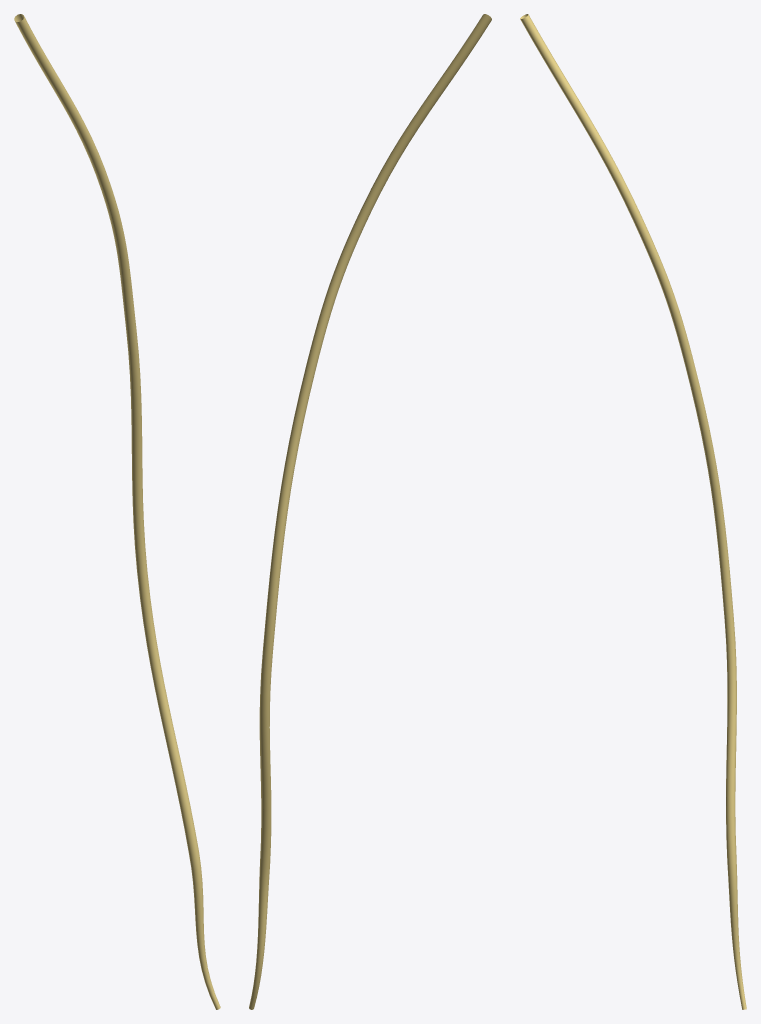
The picture shows the model from 3 angles, left to right: view 1: azimuth 30°, elevation 25°; view 2: azimuth 150°, elevation 25°; view 3: azimuth 330°, elevation 25°; orthographic projection. The views are drawn at different scales.
Parts seen in each view (by area): view 1: ZA_2bd063fffd71c927; view 2: ZA_2bd063fffd71c927; view 3: ZA_2bd063fffd71c927.
Part boxes in pixels (x1,y1,x2,y2): ZA_2bd063fffd71c927: (14, 14, 220, 1009); ZA_2bd063fffd71c927: (249, 14, 491, 1009); ZA_2bd063fffd71c927: (520, 14, 746, 1009).
Bounding box in the file's own units: 0.0491 × 0.2193 × 0.0209.
